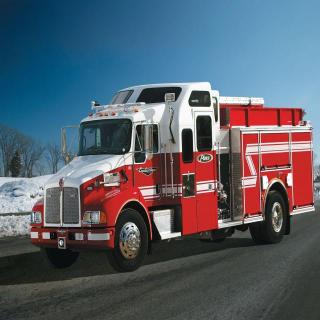Fire_truck: (29, 81, 316, 273)
